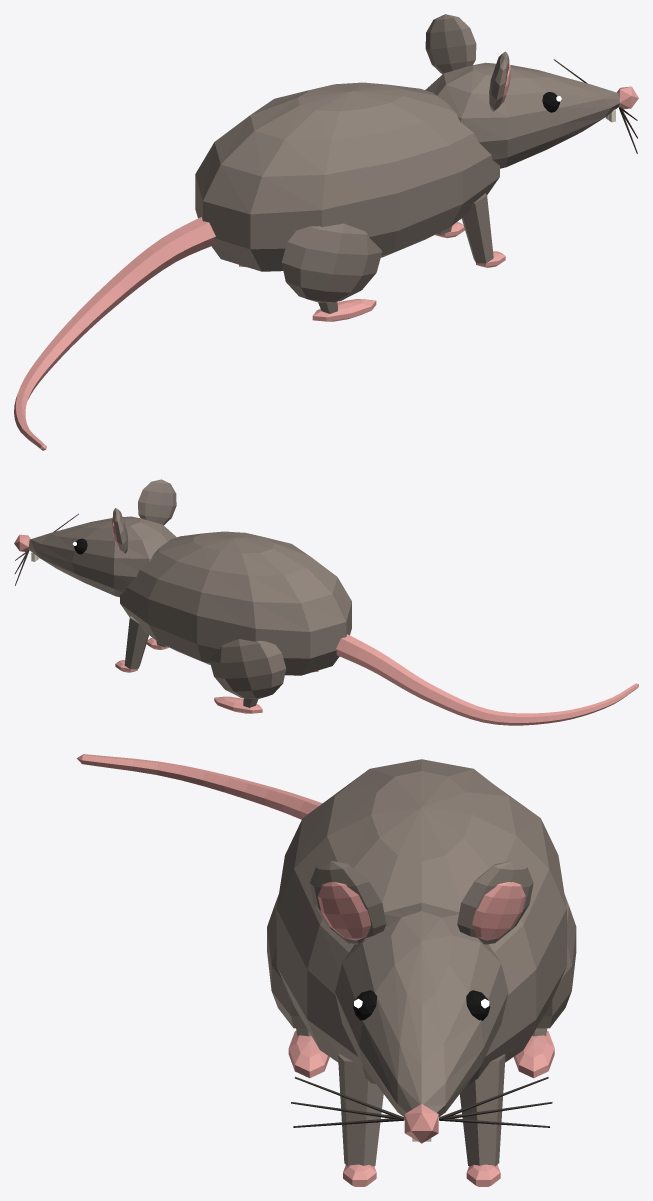
The model's file is spinning-rat.glb.
3 renders of one model, top to bottom at view 1: azimuth 30°, elevation 25°; view 2: azimuth 150°, elevation 25°; view 3: azimuth 270°, elevation 25°, orthographic. The views are drawn at different scales.
Visible parts, largest first — view 1: Body, Head, Tail, Haunch_L, EarOuter_R, FrontLeg_L, BackFoot_L, EarOuter_L; view 2: Body, Head, Tail, Haunch_R, EarOuter_L, FrontLeg_R, BackFoot_R, EarOuter_R; view 3: Body, Head, Tail, FrontLeg_L, FrontLeg_R, EarOuter_R, EarOuter_L, EarInner_L, EarInner_R, Haunch_L, Haunch_R, BackFoot_L (+4 smaller).
Boxes of the visible parts, x1=… form: Body: x1=195, y1=82, x2=499, y2=271; Head: x1=425, y1=62, x2=619, y2=168; Tail: x1=14, y1=217, x2=215, y2=450; Haunch_L: x1=281, y1=223, x2=382, y2=302; EarOuter_R: x1=425, y1=14, x2=476, y2=74; FrontLeg_L: x1=461, y1=193, x2=493, y2=263; BackFoot_L: x1=312, y1=299, x2=376, y2=321; EarOuter_L: x1=489, y1=51, x2=509, y2=111; Body: x1=120, y1=531, x2=351, y2=675; Head: x1=28, y1=516, x2=176, y2=597; Tail: x1=336, y1=634, x2=638, y2=725; Haunch_R: x1=209, y1=639, x2=286, y2=699; EarOuter_L: x1=138, y1=479, x2=176, y2=525; FrontLeg_R: x1=124, y1=616, x2=148, y2=669; BackFoot_R: x1=214, y1=696, x2=262, y2=713; EarOuter_R: x1=113, y1=508, x2=128, y2=553; Body: x1=276, y1=759, x2=566, y2=1083; Head: x1=335, y1=902, x2=508, y2=1116; Tail: x1=76, y1=754, x2=322, y2=819; FrontLeg_L: x1=338, y1=1054, x2=383, y2=1166; FrontLeg_R: x1=459, y1=1054, x2=505, y2=1166; EarOuter_R: x1=457, y1=861, x2=533, y2=944; EarOuter_L: x1=310, y1=861, x2=386, y2=944; EarInner_L: x1=317, y1=882, x2=370, y2=940; EarInner_R: x1=472, y1=882, x2=525, y2=940; Haunch_L: x1=267, y1=894, x2=306, y2=1028; Haunch_R: x1=536, y1=894, x2=576, y2=1028; BackFoot_L: x1=288, y1=1031, x2=329, y2=1078.
Size of the model in its own units: 0.4215 by 0.122 by 0.1696.
